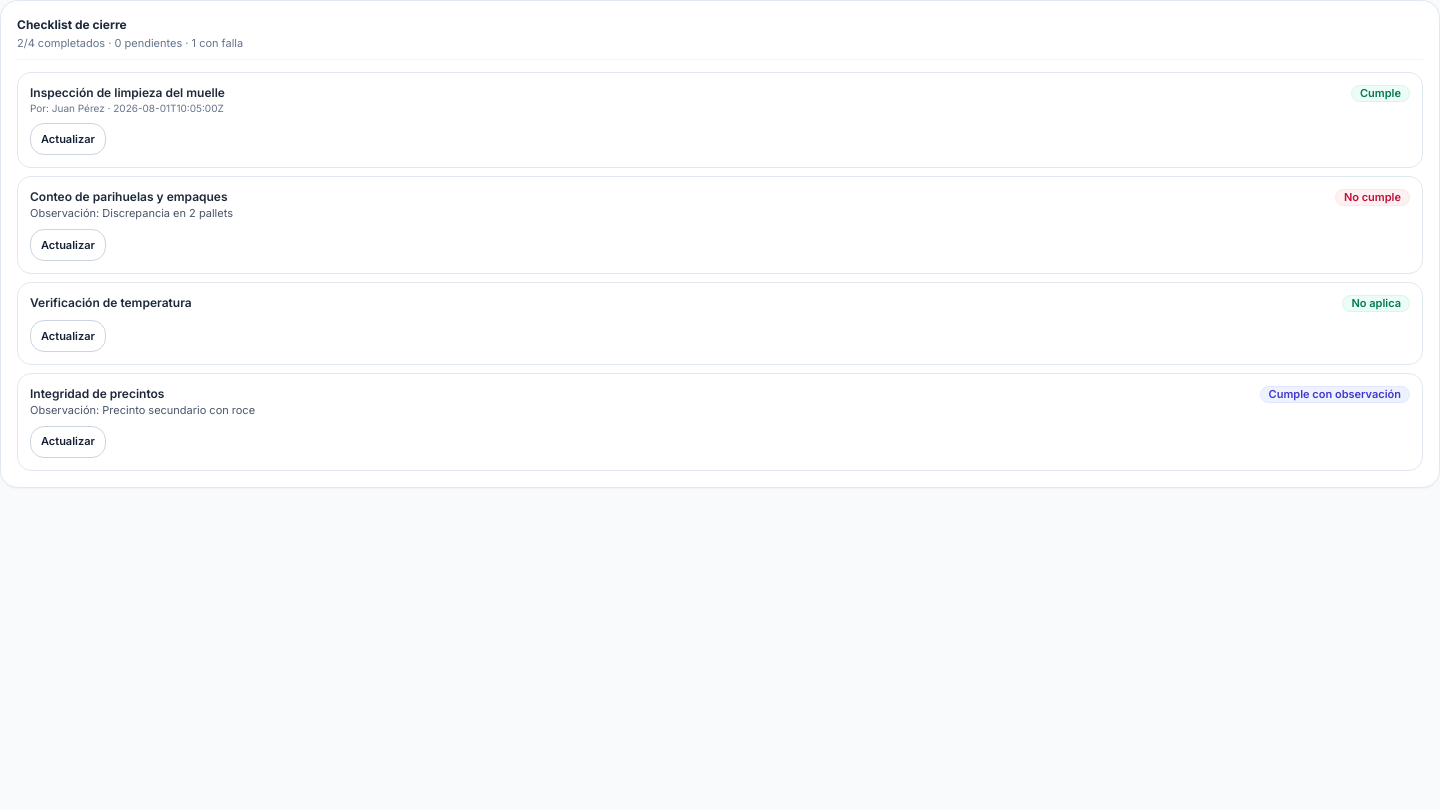
Test: UnloadingCompletionChecklist › abre el dialogo de actualización al hacer click en el botón Actualizar
Click the button "Actualizar" below "Inspección de limpieza del muelle".
click(68, 139)  # box [30,123,106,155]
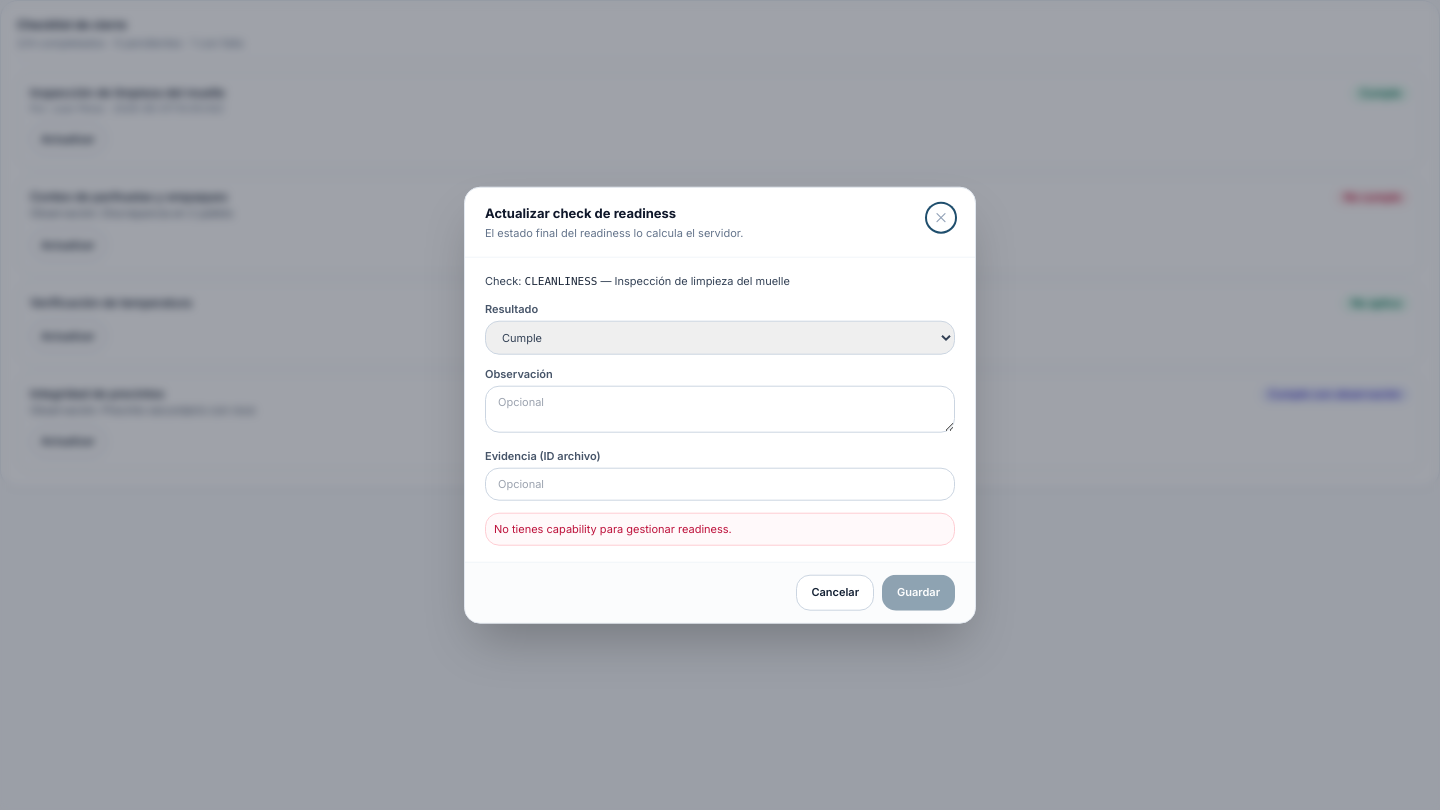
expect the dialog is shown: met, box [464,187,976,623]
